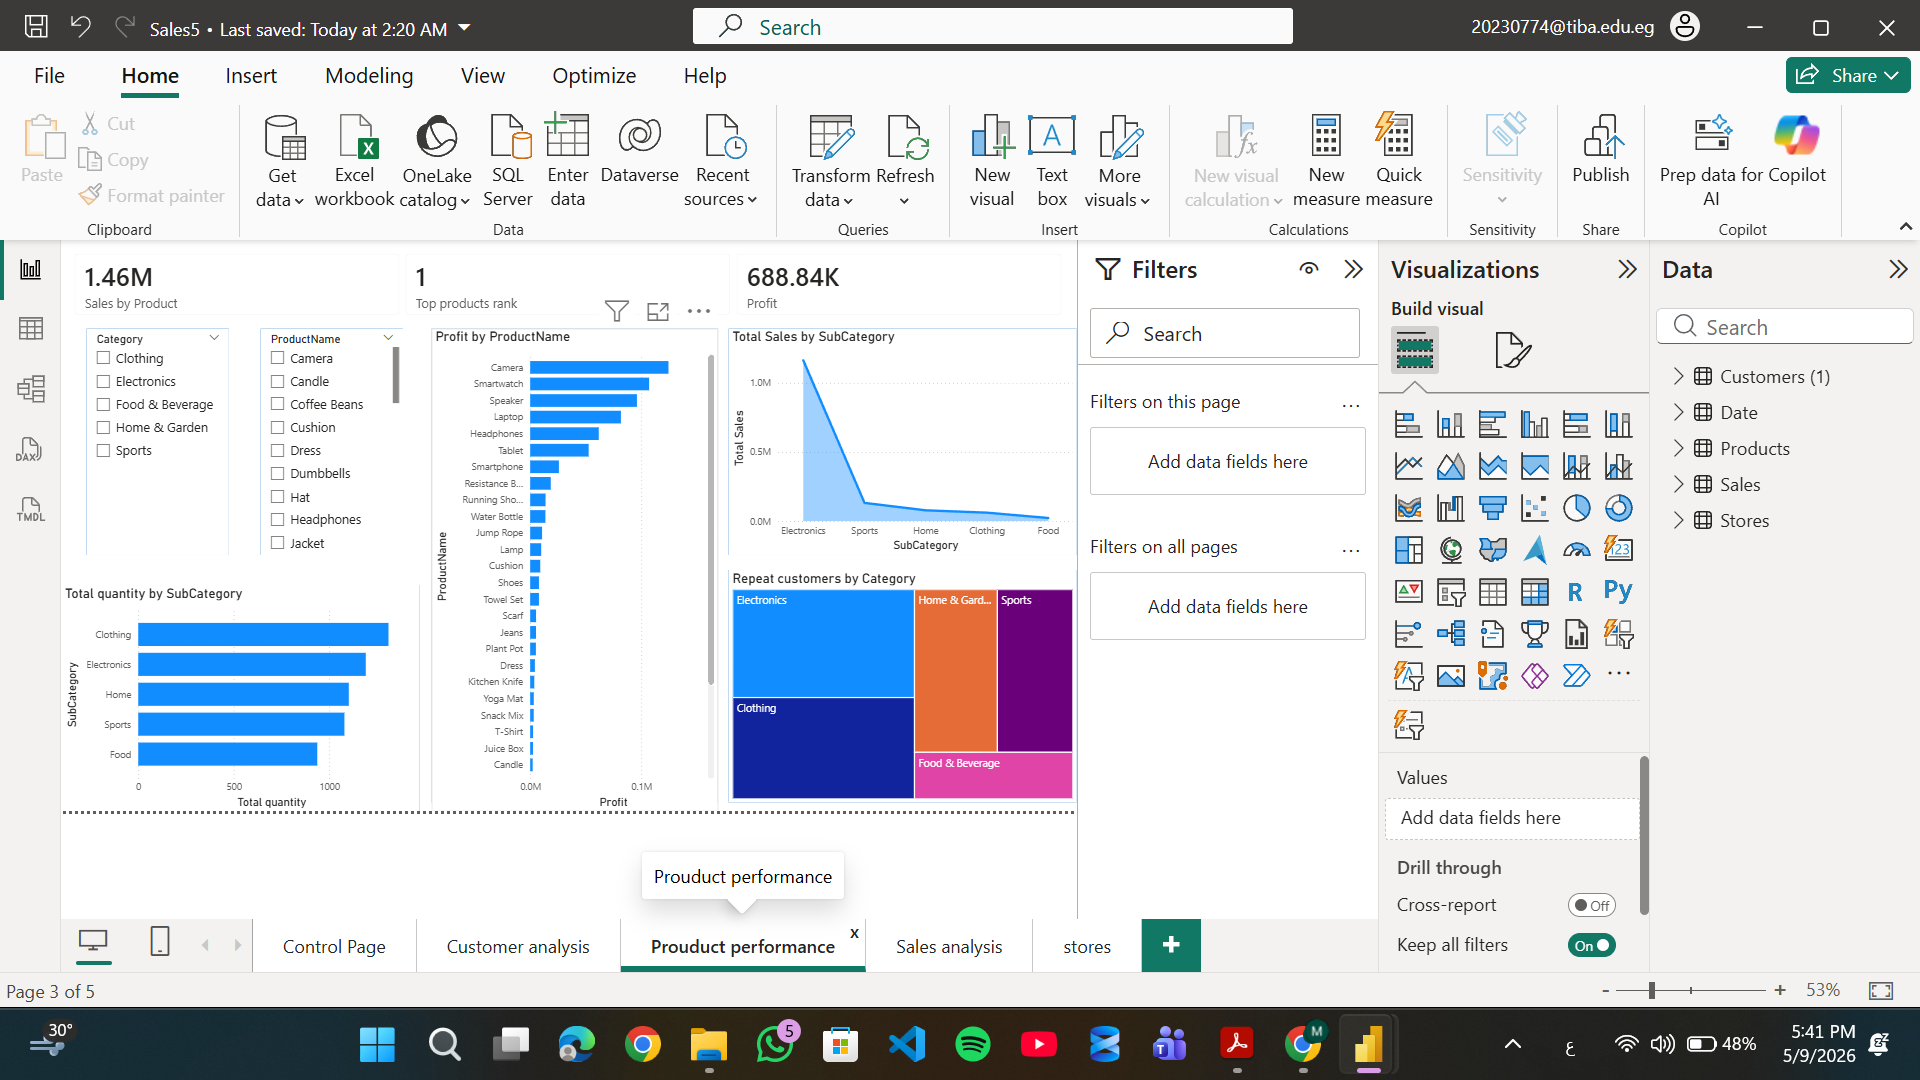

Layout of this report page (visuals, bound fields, positions):
{"tool":"powerbi","page":{"name":"Prouduct performance","canvas":[1280,720],"ordinal":2},"visuals":[{"type":"cardVisual","fields":{"Data":["Customers (1).Sales by Product","Customers (1).Top products rank","Products.Profit"]},"box":[0,0,1279.4,111.5],"z":0},{"type":"shape","box":[841,111.5,438.4,285.4],"z":1000},{"type":"shape","box":[841,415.8,438.4,292.9],"z":2000},{"type":"shape","box":[466.8,111.5,360.9,597.2],"z":3000},{"type":"shape","box":[0,434.6,451.7,285.4],"z":4000},{"type":"clusteredBarChart","fields":{"Category":["Products.ProductName"],"Y":["Products.Profit"]},"box":[466.8,111.5,360.9,608.5],"z":5000},{"type":"stackedAreaChart","fields":{"Category":["Products.SubCategory"],"Y":["Sales.Total Sales"]},"box":[841,111.5,438.4,285.4],"z":6000},{"type":"barChart","fields":{"Category":["Products.SubCategory"],"Y":["Customers (1).Total quantity"]},"box":[0,434.6,451.7,285.4],"z":7000},{"type":"treemap","fields":{"Values":["Customers (1).Repeat customers"],"Group":["Products.Category"]},"box":[841,415.8,438.4,292.9],"z":8000},{"type":"shape","box":[32.1,111.5,179.5,285.4],"z":9000},{"type":"shape","box":[251.3,111.5,179.5,285.4],"z":10000},{"type":"slicer","fields":{"Values":["Products.Category"]},"box":[32.1,111.5,179.5,285.4],"z":11000},{"type":"slicer","fields":{"Values":["Products.ProductName"]},"box":[251.3,111.5,179.5,285.4],"z":12000}]}

Visuals, with their boxes on the page's 1280x720 design canvas (x1, y1, x2, y2). These are canvas units, not pixel positions in the 1920x1080 screenshot, which may show the page scaled, cropped or inside an application window:
cardVisual - Customers (1).Sales by Product x Customers (1).Top products rank: [0, 0, 1279, 112]
shape: [841, 112, 1279, 397]
shape: [841, 416, 1279, 709]
shape: [467, 112, 828, 709]
shape: [0, 435, 452, 720]
clusteredBarChart - Products.ProductName x Products.Profit: [467, 112, 828, 720]
stackedAreaChart - Products.SubCategory x Sales.Total Sales: [841, 112, 1279, 397]
barChart - Products.SubCategory x Customers (1).Total quantity: [0, 435, 452, 720]
treemap - Customers (1).Repeat customers x Products.Category: [841, 416, 1279, 709]
shape: [32, 112, 212, 397]
shape: [251, 112, 431, 397]
slicer - Products.Category: [32, 112, 212, 397]
slicer - Products.ProductName: [251, 112, 431, 397]
